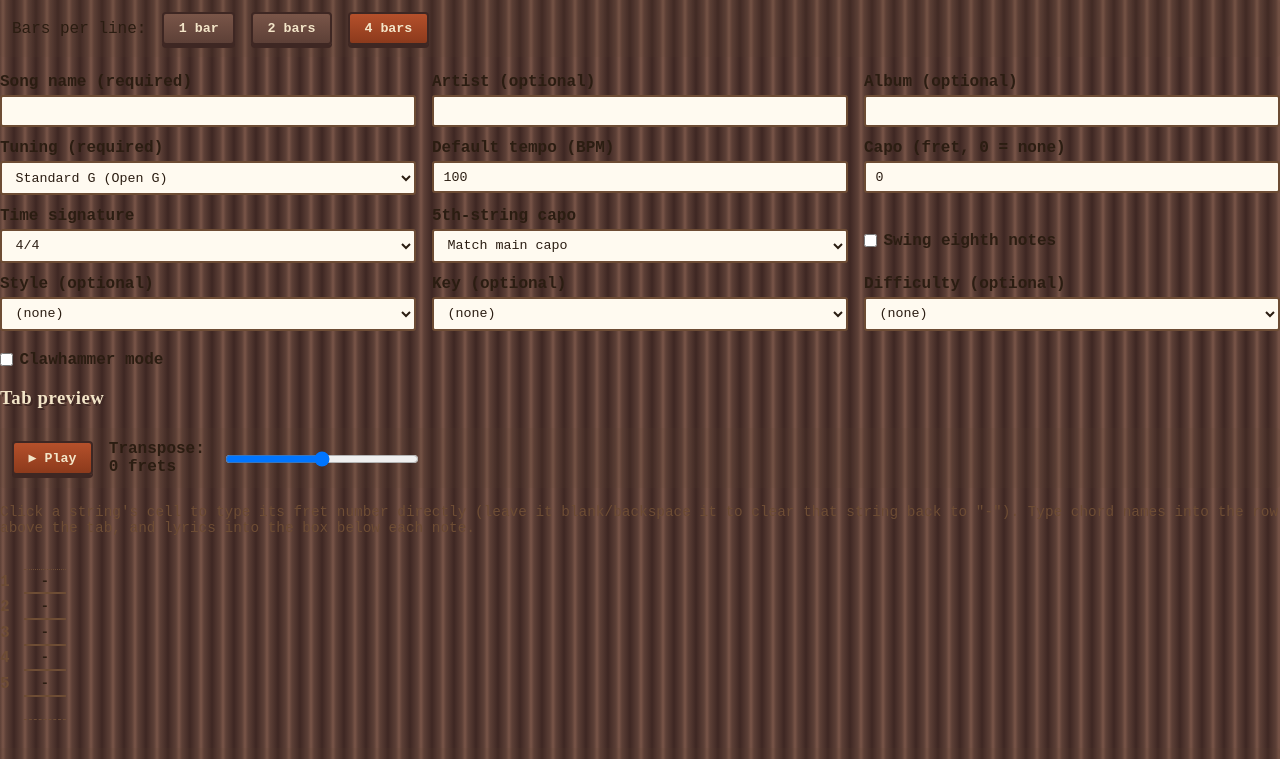
TabEditor › shows the technique editor immediately on a single click, before pressing Enter
Step 1. Click the 1st text with class "clickable" → click(45, 582), box [24,570,66,594]
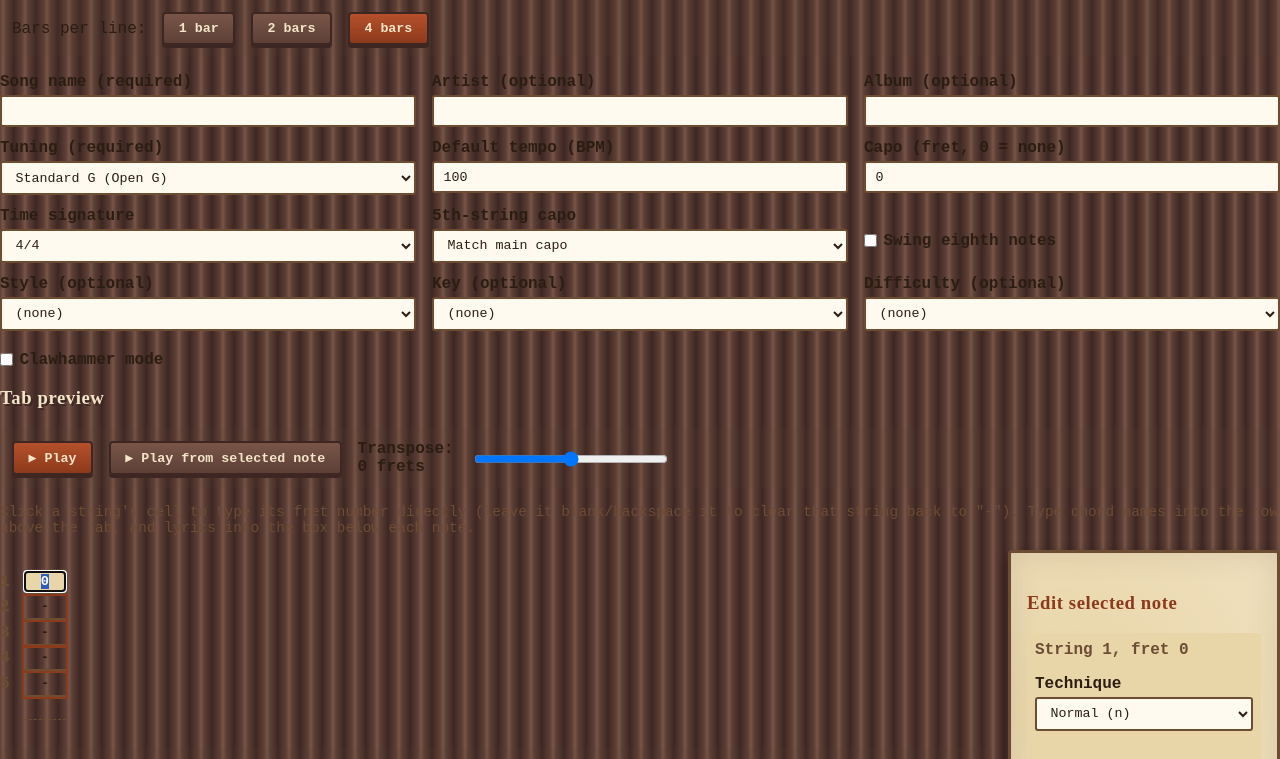
Expected: the heading "Edit selected note" is shown, [1027,592,1177,613]
Expected: the dropdown labelled "Technique" is shown, [1035,697,1253,731]
